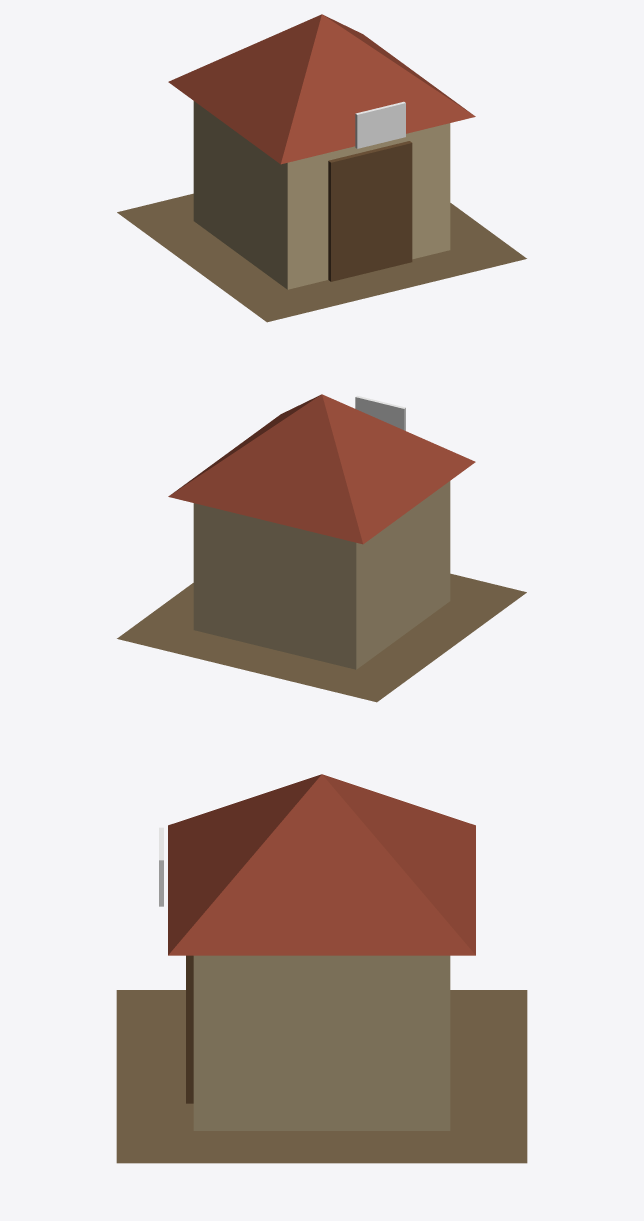
The model's file is facets.glb.
3 renders of one model, top to bottom at view 1: azimuth 30°, elevation 25°; view 2: azimuth 150°, elevation 25°; view 3: azimuth 270°, elevation 25°, orthographic. The views are drawn at different scales.
Parts seen in each view (by area): view 1: hut, ground, door, teamcolour; view 2: hut, ground, teamcolour; view 3: hut, ground, door.
Part boxes in pixels (bbox=[...]): hut: bbox=[168, 14, 475, 289]; ground: bbox=[117, 193, 526, 322]; door: bbox=[328, 141, 412, 281]; teamcolour: bbox=[355, 101, 405, 148]; hut: bbox=[168, 394, 475, 669]; ground: bbox=[117, 573, 526, 702]; teamcolour: bbox=[355, 395, 405, 430]; hut: bbox=[168, 774, 475, 1130]; ground: bbox=[116, 990, 527, 1163]; door: bbox=[186, 955, 193, 1103].
Bounding box in the file's own units: 4.8 × 2.8 × 4.8.
1 material, 1 textured.
